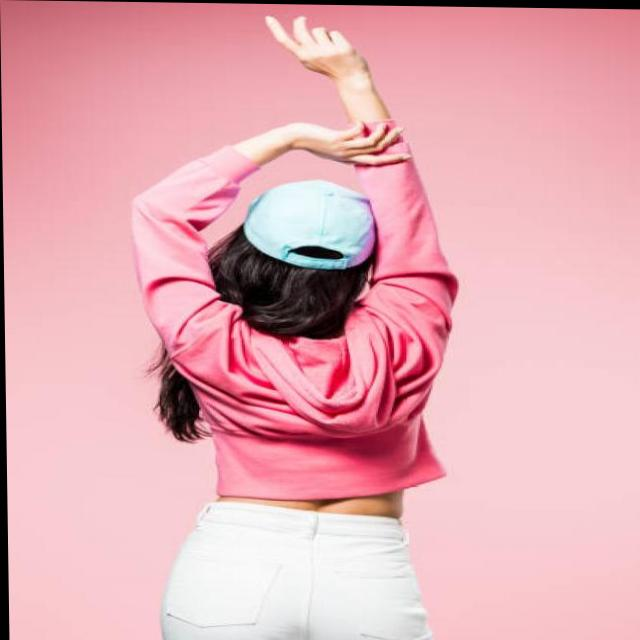no helmet: (227, 168, 392, 348)
